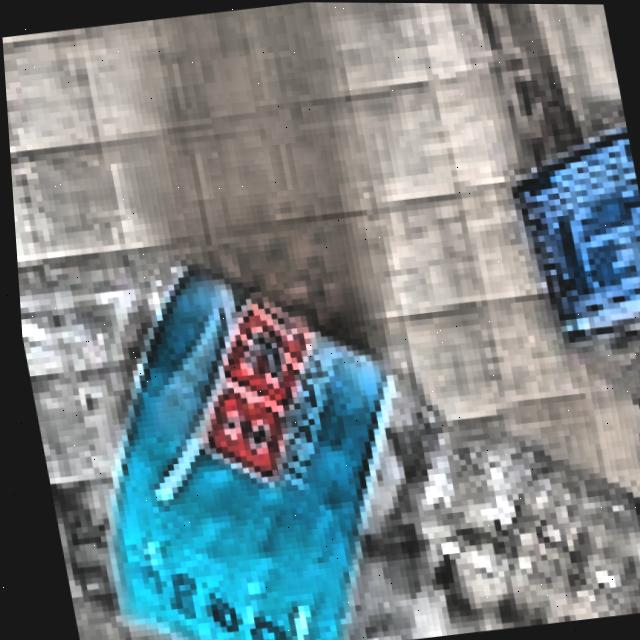plastic: (8, 156, 640, 640), (388, 2, 640, 554)
